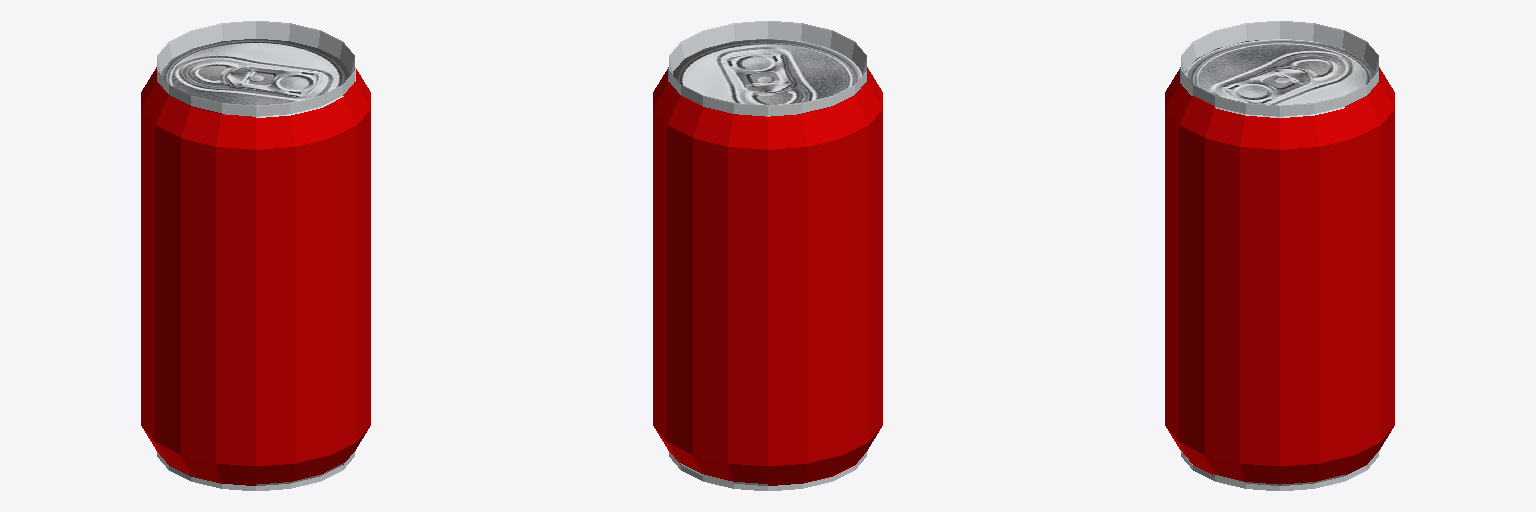
3 renders of one model, left to right at view 1: azimuth 30°, elevation 25°; view 2: azimuth 150°, elevation 25°; view 3: azimuth 270°, elevation 25°, orthographic.
Visible parts, largest first — view 1: Cylinder001; view 2: Cylinder001; view 3: Cylinder001.
Part boxes in pixels (x1,y1,x2,y2): Cylinder001: (141,21,370,490); Cylinder001: (653,21,882,490); Cylinder001: (1165,21,1394,490).
Bounding box in the file's own units: 23.62 × 43.18 × 23.26.
Materials: 1 (1 with a texture image).